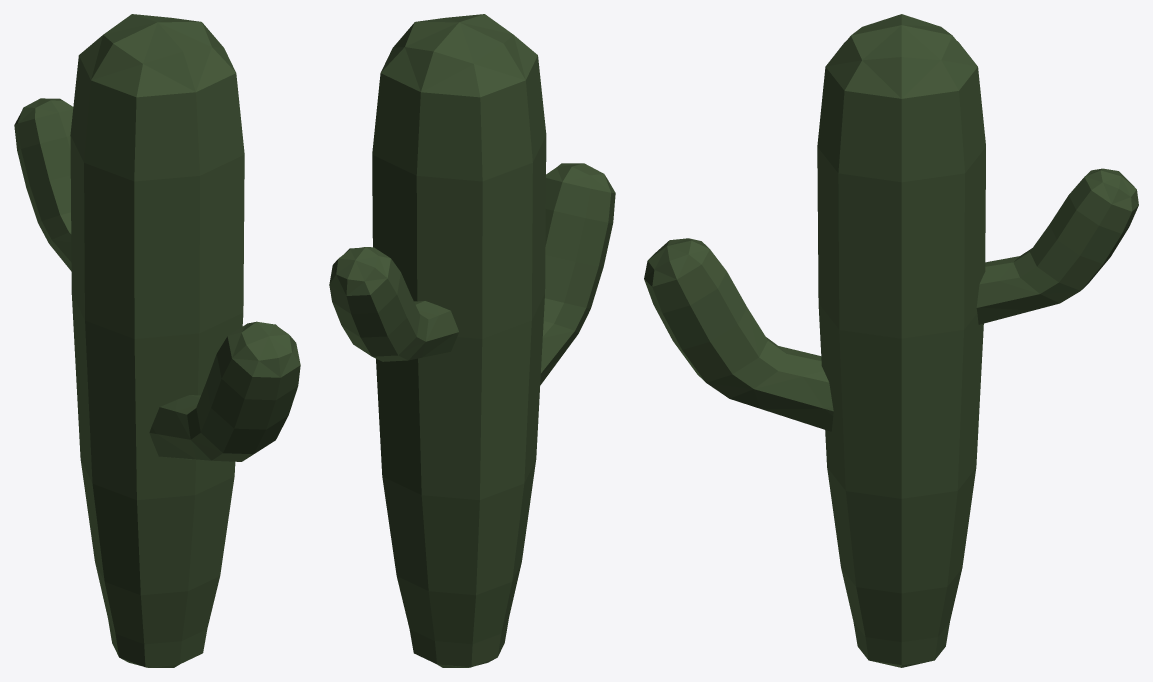
The model's file is cactus-2.glb.
3 renders of one model, left to right at view 1: azimuth 30°, elevation 25°; view 2: azimuth 150°, elevation 25°; view 3: azimuth 270°, elevation 25°, orthographic.
Bounding box in the file's own units: 0.3418 × 1.41 × 1.
